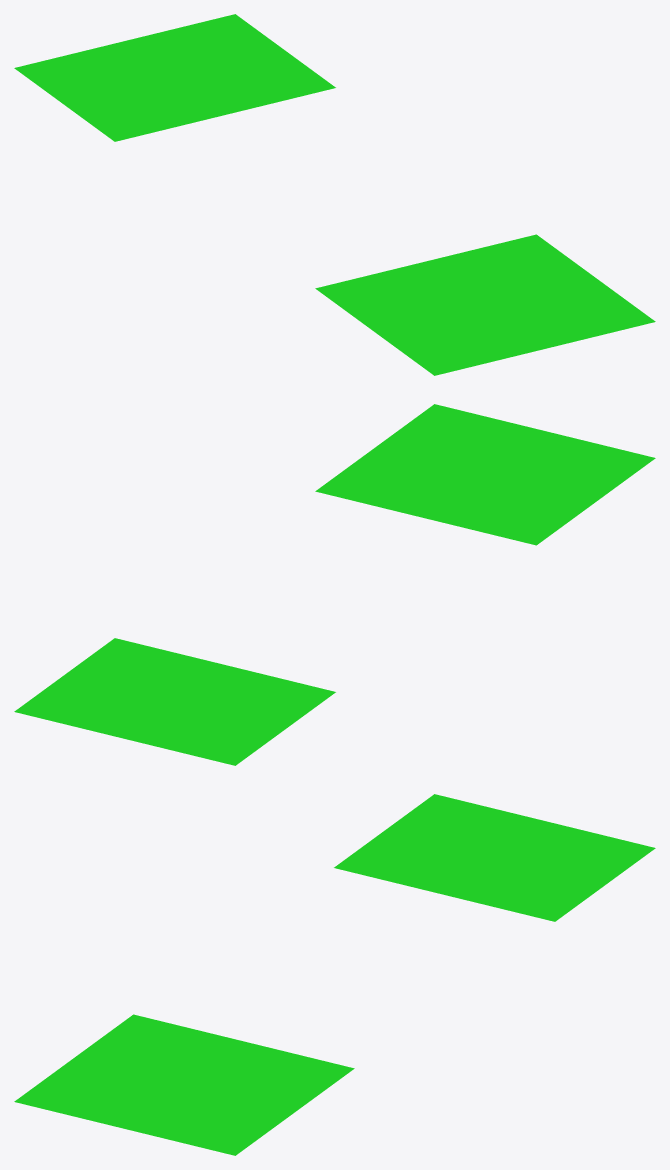
File: NavMesh.glb
The picture shows the model from 3 angles, top to bottom: view 1: azimuth 30°, elevation 25°; view 2: azimuth 150°, elevation 25°; view 3: azimuth 330°, elevation 25°; orthographic projection.
Parts seen in each view (by area): view 1: baseB; view 2: baseB; view 3: baseB.
Boxes of the visible parts, x1,y1,x2,y2 form: baseB: (14,14,655,375); baseB: (14,404,655,765); baseB: (14,794,655,1155).
Size of the model in its own units: 4 by 0 by 13.16.
